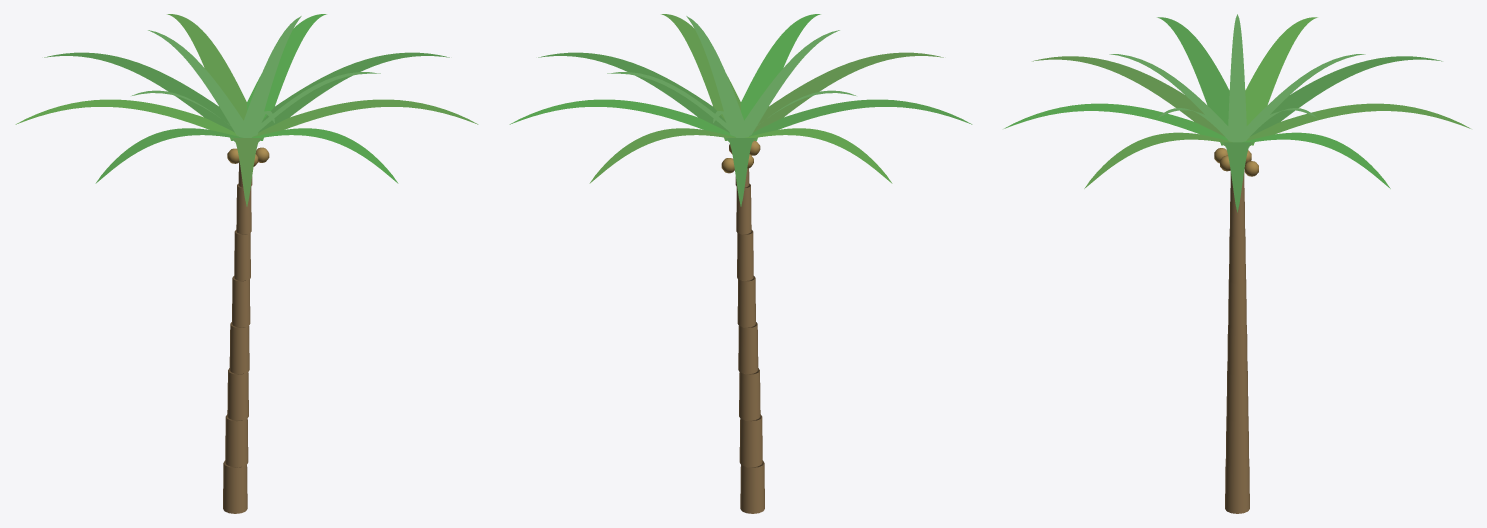
Rendered from coconut_palm (2).glb.
3 views of the same model, side by side, from view 1: azimuth 30°, elevation 25°; view 2: azimuth 150°, elevation 25°; view 3: azimuth 270°, elevation 25° (orthographic).
Visible parts, largest first — view 1: CoconutPalm; view 2: CoconutPalm; view 3: CoconutPalm.
Part boxes in pixels (x1,y1,x2,y2): CoconutPalm: (15, 14, 478, 513); CoconutPalm: (509, 14, 972, 513); CoconutPalm: (1004, 14, 1470, 513).
Size of the model in its own units: 8.15 by 8.6 by 8.27.
